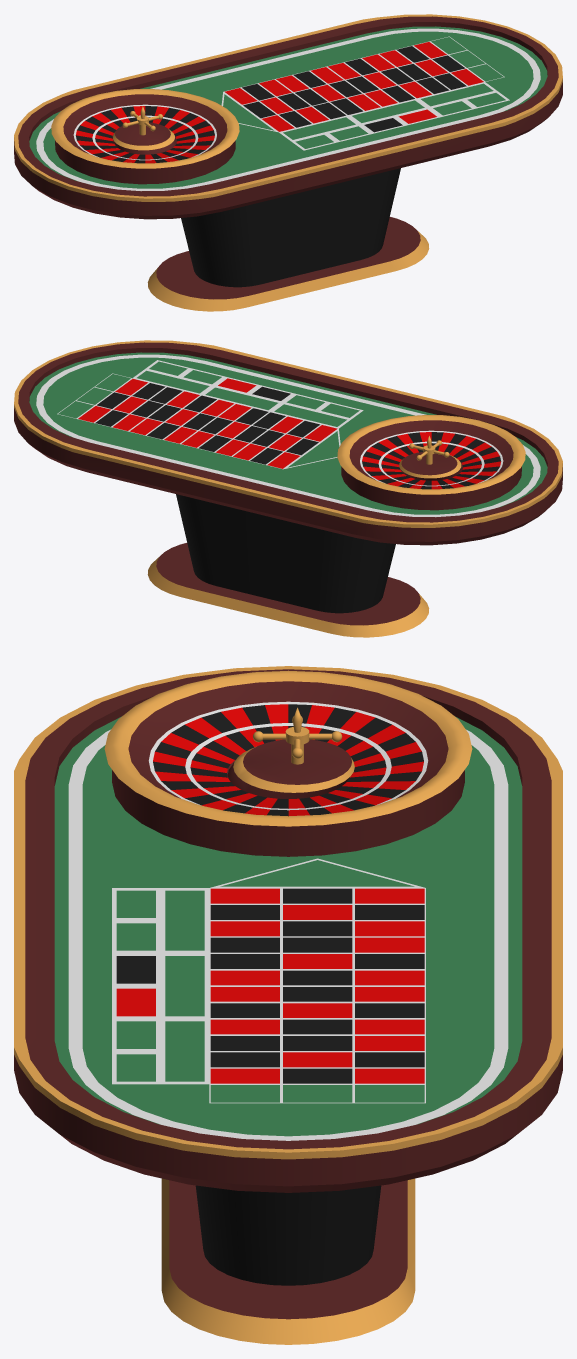
File: roulette table.fbx
3 renders of one model, top to bottom at view 1: azimuth 30°, elevation 25°; view 2: azimuth 150°, elevation 25°; view 3: azimuth 270°, elevation 25°, orthographic. The views are drawn at different scales.
Parts seen in each view (by area): view 1: roulette table; view 2: roulette table; view 3: roulette table.
Boxes of the visible parts, left/top/right/bottom form: roulette table: left=14, top=14, right=562, bottom=311; roulette table: left=14, top=340, right=562, bottom=637; roulette table: left=14, top=666, right=562, bottom=1344.
Size of the model in its own units: 250 by 90.05 by 119.
